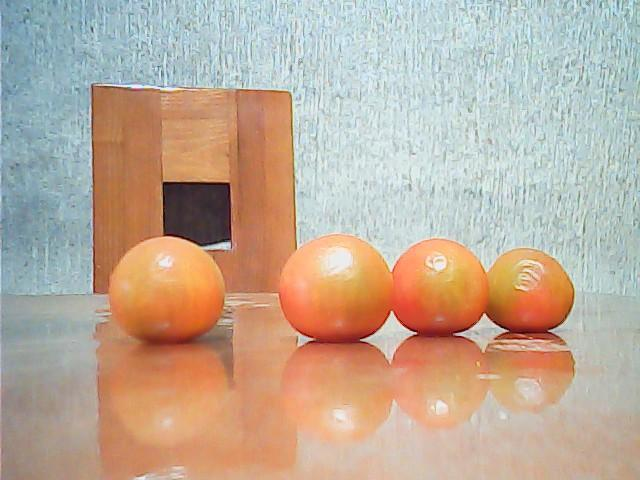verde: (275, 232, 393, 345), (105, 235, 224, 344), (392, 237, 489, 331), (486, 247, 575, 331)
